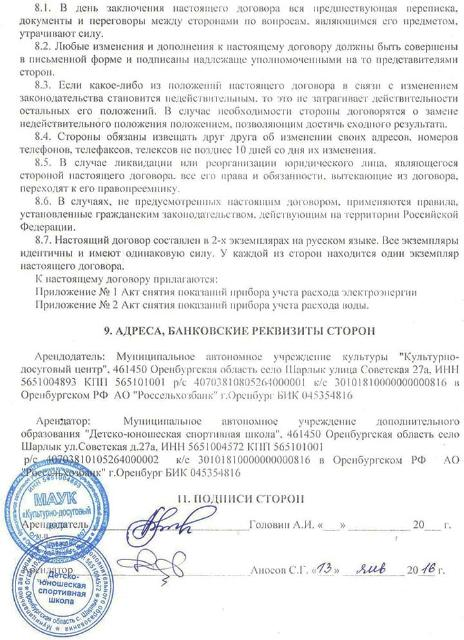stamp: (4, 456, 109, 560)
